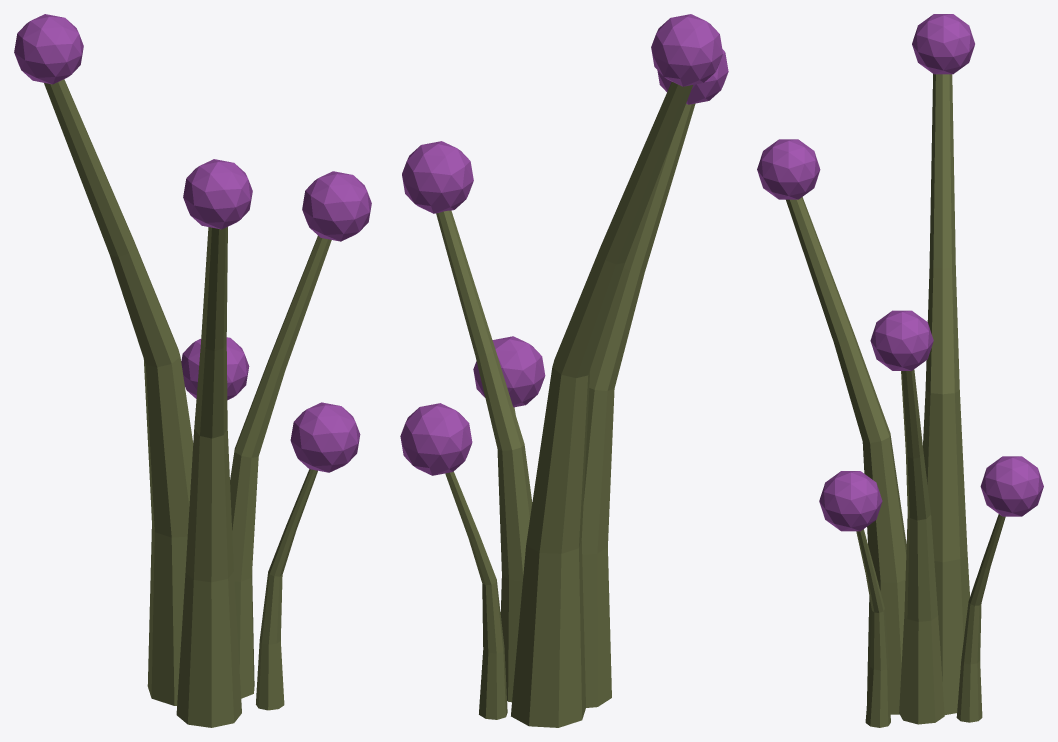
Rendered from Flower_02.fbx.
3 renders of one model, left to right at view 1: azimuth 30°, elevation 25°; view 2: azimuth 150°, elevation 25°; view 3: azimuth 270°, elevation 25°, orthographic. The views are drawn at different scales.
Visible parts, largest first — view 1: Cylinder.027, Icosphere.057, Icosphere.059, Icosphere.056, Icosphere.058, Icosphere.060; view 2: Cylinder.027, Icosphere.059, Icosphere.060, Icosphere.056, Icosphere.057, Icosphere.058; view 3: Cylinder.027, Icosphere.057, Icosphere.056, Icosphere.059, Icosphere.058, Icosphere.060.
Part boxes in pixels (x1,y1,x2,y2): Cylinder.027: (44,79,331,727); Icosphere.057: (290,402,360,472); Icosphere.059: (14,14,83,84); Icosphere.056: (302,171,371,241); Icosphere.058: (183,159,252,229); Icosphere.060: (181,337,249,400); Cylinder.027: (436,82,695,727); Icosphere.059: (651,14,722,86); Icosphere.060: (400,403,472,475); Icosphere.056: (402,141,473,213); Icosphere.057: (473,336,545,407); Icosphere.058: (657,49,728,104); Cylinder.027: (786,74,1005,727); Icosphere.057: (819,471,882,531); Icosphere.056: (870,310,933,370); Icosphere.059: (912,14,974,74); Icosphere.058: (757,139,820,199); Icosphere.060: (980,456,1043,516).
Bounding box in the file's own units: 36.18 × 75.82 × 31.28.
